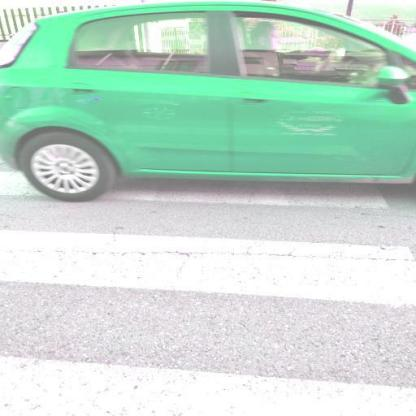crosswalk: (1, 168, 415, 311)
